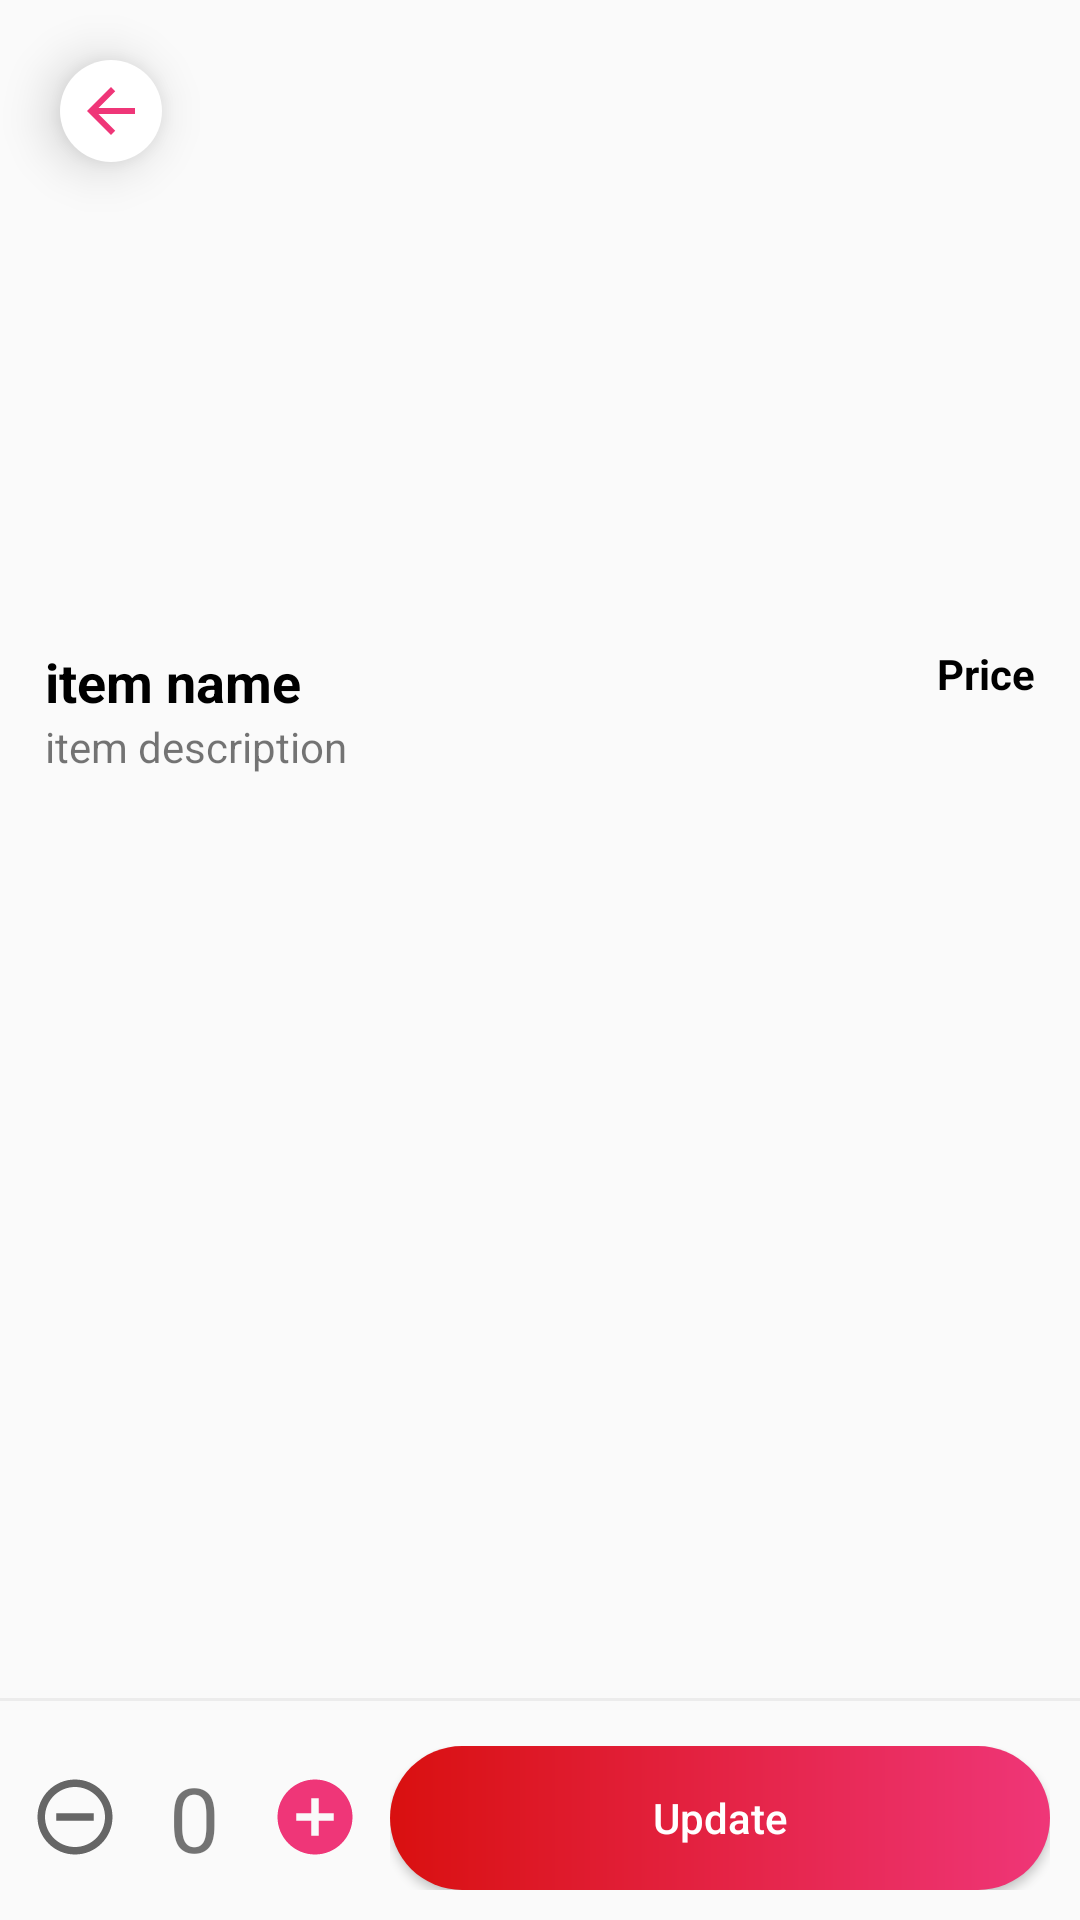

Point at icon controls on the screen. Image size 1080*1920, points as (x=x, y=y).
back: (x=111, y=111)
minus: (x=75, y=1817)
plus: (x=315, y=1817)
